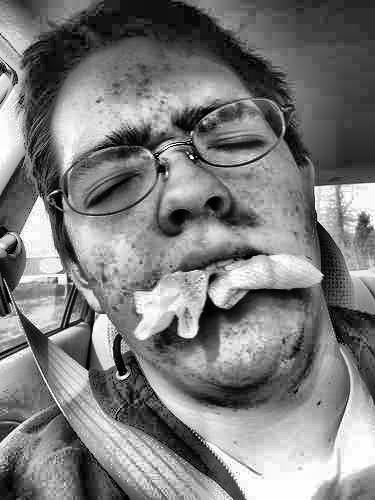seatbelt: (20, 282, 174, 486)
